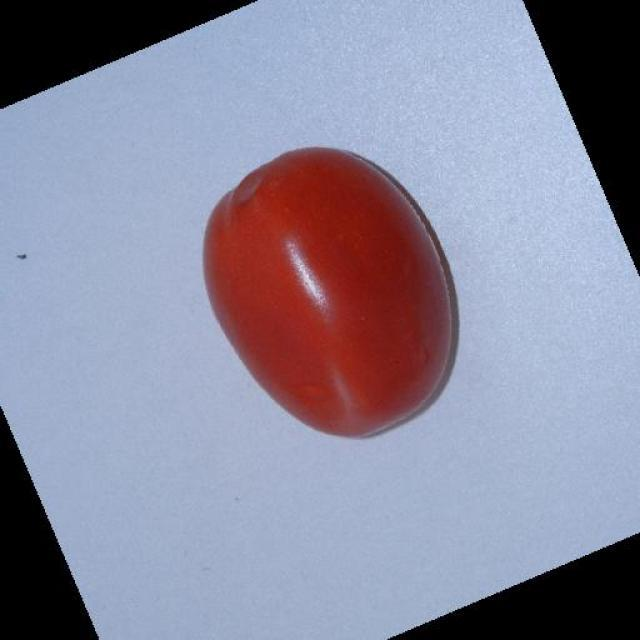Fresh Tomato: (179, 146, 491, 460)
